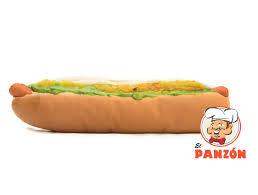Completos: (8, 74, 237, 136)
